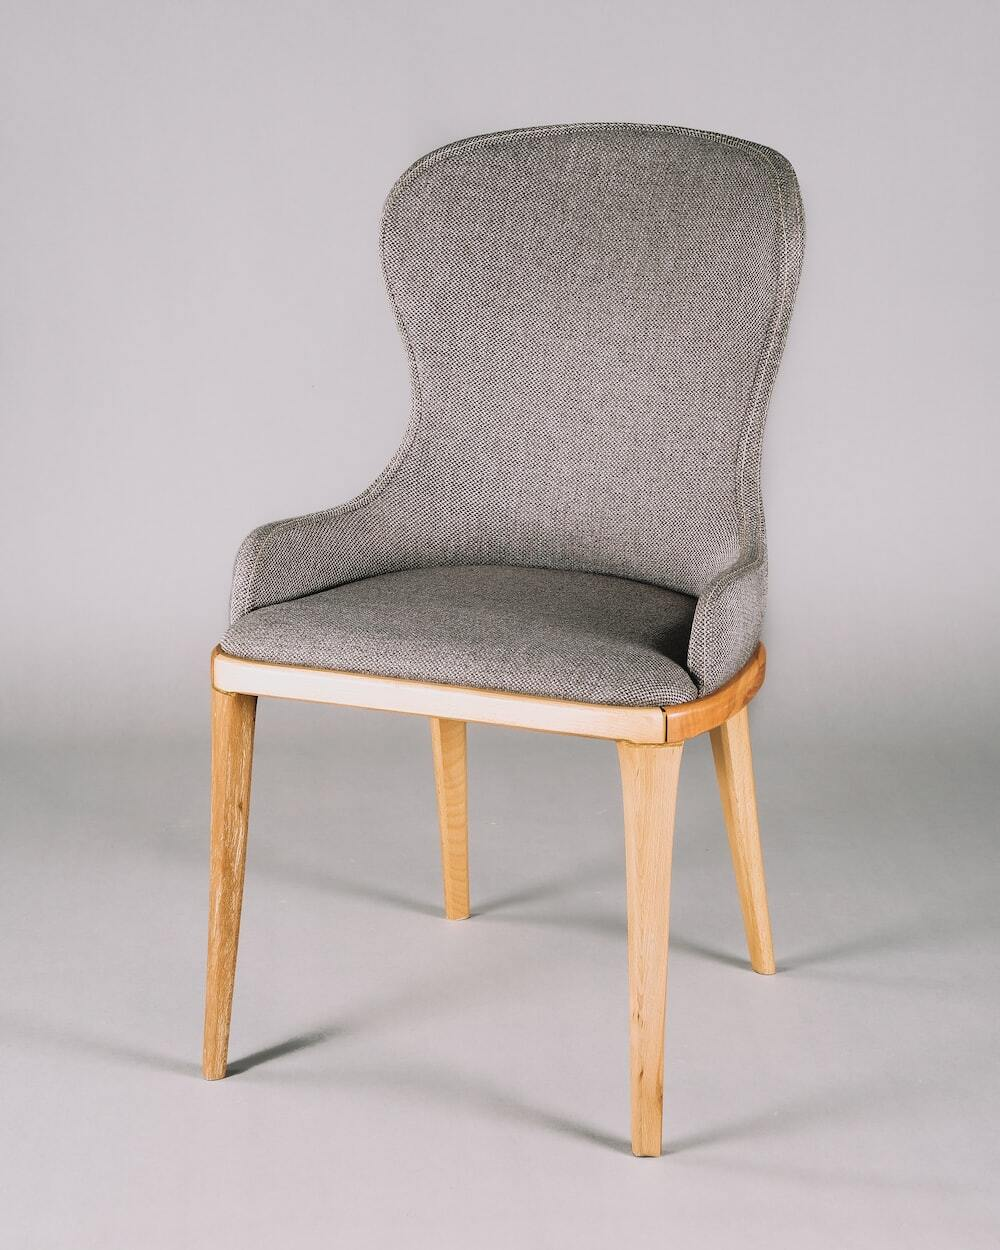chair: (201, 124, 807, 1173)
